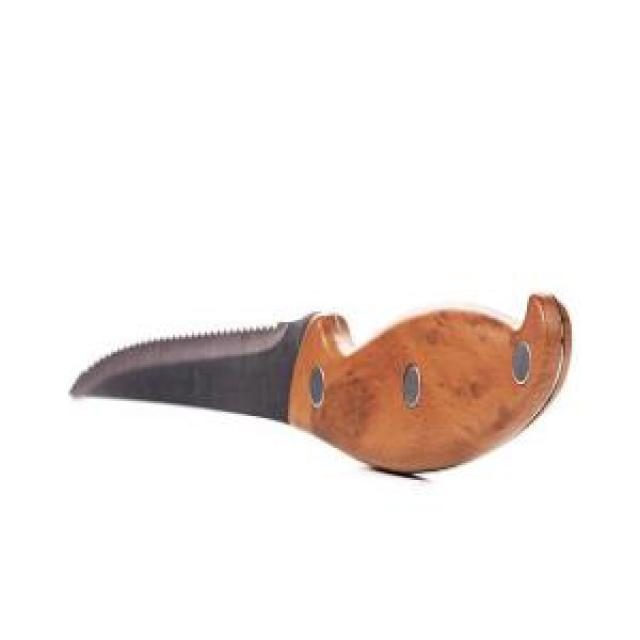knife: (66, 288, 575, 480)
